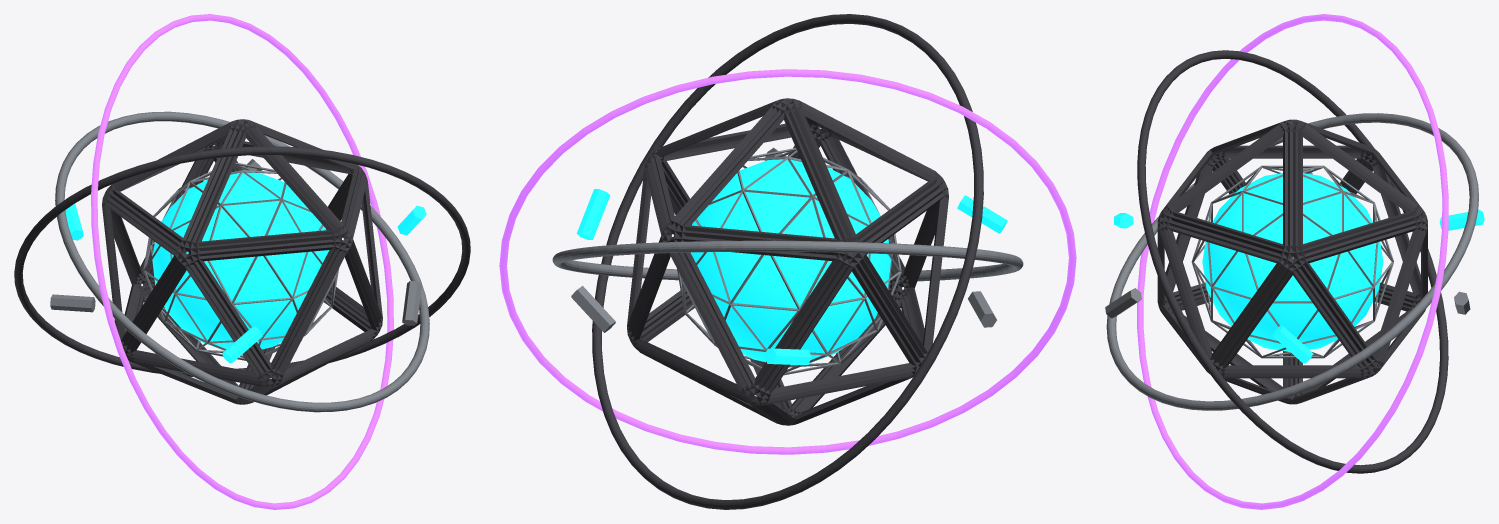
Rendered from hero.glb.
The picture shows the model from 3 angles, left to right: view 1: azimuth 30°, elevation 25°; view 2: azimuth 150°, elevation 25°; view 3: azimuth 270°, elevation 25°; orthographic projection. The views are drawn at different scales.
Parts seen in each view (by area): view 1: Hero_ExoskeletonShell, Hero_QuantumCore, Hero_Gimbal_Yaw, Hero_OrbitalHalo, Hero_Gimbal_Pitch, Hero_CoreLattice, Hero_DataNode_4, Hero_DataNode_6, Hero_DataNode_5; view 2: Hero_ExoskeletonShell, Hero_QuantumCore, Hero_Gimbal_Pitch, Hero_OrbitalHalo, Hero_Gimbal_Yaw, Hero_CoreLattice, Hero_DataNode_1, Hero_DataNode_2, Hero_DataNode_3, Hero_DataNode_5; view 3: Hero_ExoskeletonShell, Hero_QuantumCore, Hero_Gimbal_Pitch, Hero_OrbitalHalo, Hero_Gimbal_Yaw, Hero_CoreLattice, Hero_DataNode_1, Hero_DataNode_6, Hero_DataNode_3.
Boxes of the visible parts, left/top/right/bottom form: Hero_ExoskeletonShell: left=102, top=119, right=382, bottom=404; Hero_QuantumCore: left=152, top=172, right=329, bottom=349; Hero_Gimbal_Yaw: left=55, top=111, right=429, bottom=412; Hero_OrbitalHalo: left=91, top=14, right=393, bottom=509; Hero_Gimbal_Pitch: left=14, top=146, right=470, bottom=376; Hero_CoreLattice: left=143, top=162, right=339, bottom=360; Hero_DataNode_4: left=50, top=294, right=95, bottom=312; Hero_DataNode_6: left=402, top=281, right=421, bottom=325; Hero_DataNode_5: left=222, top=326, right=262, bottom=363; Hero_ExoskeletonShell: left=627, top=98, right=948, bottom=425; Hero_QuantumCore: left=691, top=159, right=891, bottom=362; Hero_Gimbal_Pitch: left=592, top=14, right=983, bottom=509; Hero_OrbitalHalo: left=499, top=69, right=1076, bottom=454; Hero_Gimbal_Yaw: left=552, top=240, right=1023, bottom=281; Hero_CoreLattice: left=677, top=148, right=901, bottom=375; Hero_DataNode_1: left=576, top=189, right=610, bottom=239; Hero_DataNode_2: left=571, top=285, right=615, bottom=332; Hero_DataNode_3: left=764, top=348, right=811, bottom=365; Hero_DataNode_5: left=957, top=195, right=1007, bottom=233; Hero_ExoskeletonShell: left=1157, top=119, right=1427, bottom=404; Hero_QuantumCore: left=1202, top=173, right=1383, bottom=351; Hero_Gimbal_Pitch: left=1137, top=50, right=1448, bottom=473; Hero_OrbitalHalo: left=1137, top=14, right=1448, bottom=509; Hero_Gimbal_Yaw: left=1106, top=113, right=1478, bottom=410; Hero_CoreLattice: left=1191, top=165, right=1393, bottom=358; Hero_DataNode_1: left=1272, top=325, right=1313, bottom=363; Hero_DataNode_6: left=1105, top=288, right=1141, bottom=318; Hero_DataNode_3: left=1439, top=210, right=1484, bottom=230.
Size of the model in its own units: 4.65 by 4.84 by 3.98.
